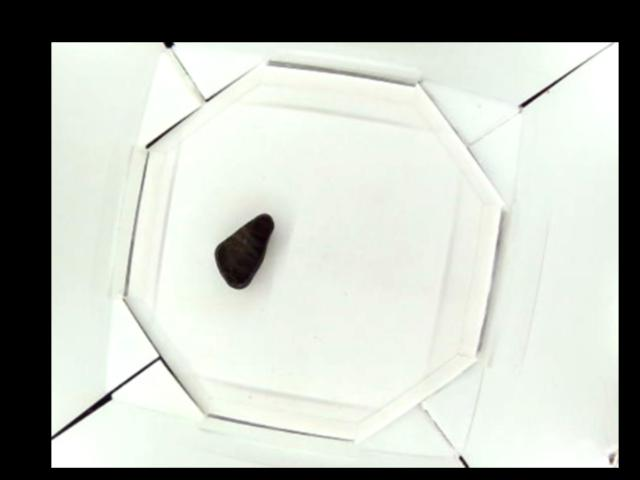Pebble: (211, 212, 273, 287)
